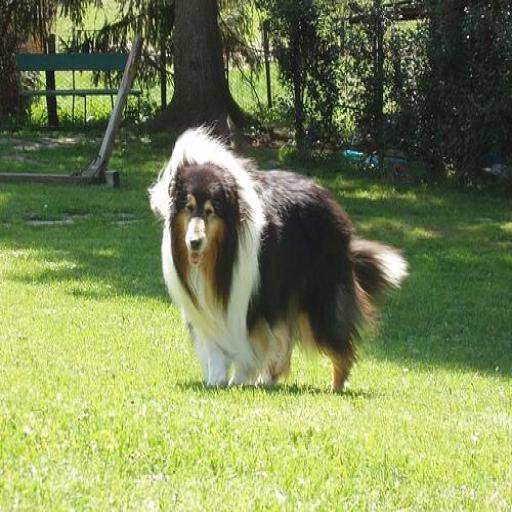dog_face: (169, 156, 228, 262)
